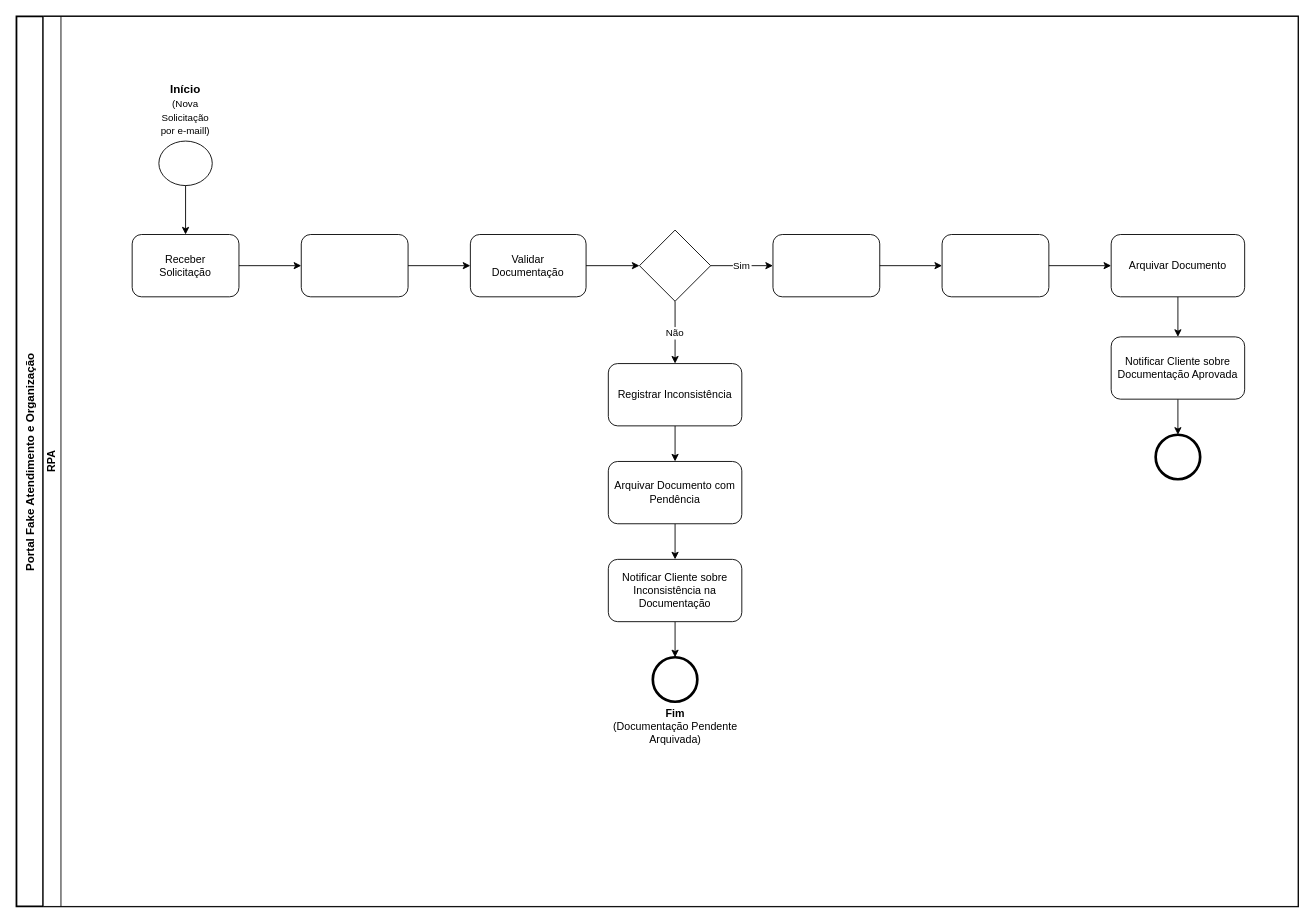
Some shapes in this 1314 by 922 pixel diagram are drawn without their labels. Here are the shapes that lost their labels. From the top down, the centre of each, then its label:
At point 354,265: "Baixar Documentos".
At point 675,265: "Documentação Aprovada?".
At point 826,265: "Extrair Dados".
At point 995,265: "Atualizar Planilha Mestra".
At point 1177,456: "Fim (Documentação Aprovada Arquivada)".
